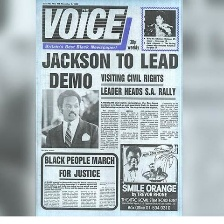news_paper: (35, 0, 183, 217)
